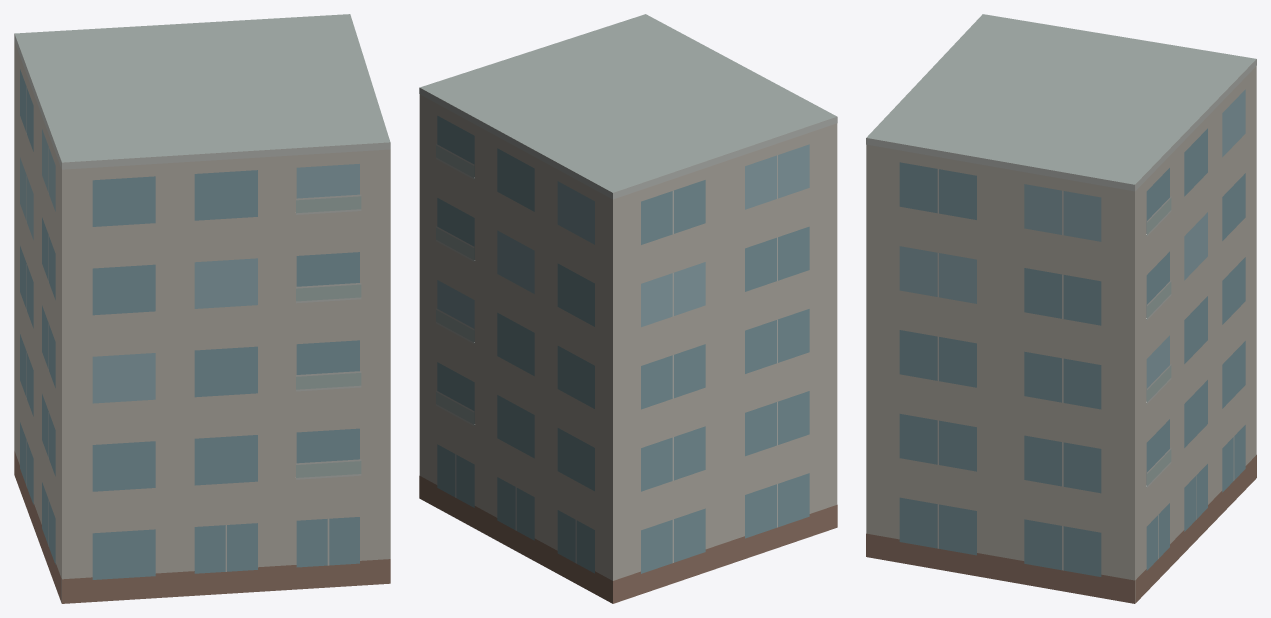
Rendered from survey-upis-32837959.glb.
3 renders of one model, left to right at view 1: azimuth 30°, elevation 25°; view 2: azimuth 150°, elevation 25°; view 3: azimuth 270°, elevation 25°, orthographic. The views are drawn at different scales.
Visible parts, largest first — view 1: survey-upis-32837959.tmp; view 2: survey-upis-32837959.tmp; view 3: survey-upis-32837959.tmp.
Boxes of the visible parts, bbox=[...] form: survey-upis-32837959.tmp: bbox=[14, 14, 390, 603]; survey-upis-32837959.tmp: bbox=[419, 14, 837, 603]; survey-upis-32837959.tmp: bbox=[866, 14, 1256, 603].
Bounding box in the file's own units: 13.29 × 15.2 × 12.85.
